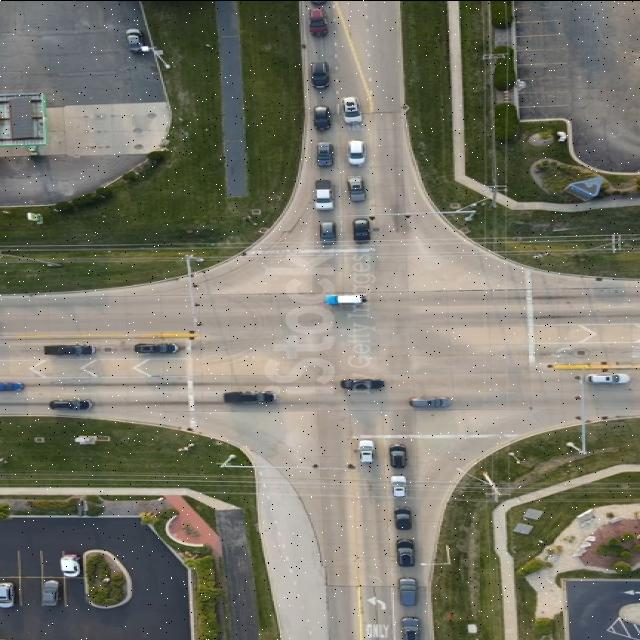car: (46, 344, 98, 356), (225, 390, 277, 402), (398, 578, 418, 606), (312, 61, 332, 88), (344, 96, 364, 122), (341, 378, 384, 390), (127, 28, 148, 52), (410, 391, 452, 403), (404, 615, 424, 640), (60, 552, 81, 575), (353, 216, 373, 240), (52, 398, 94, 409), (393, 506, 412, 530), (135, 343, 180, 353), (348, 139, 366, 163), (316, 140, 334, 164), (409, 396, 452, 406), (590, 374, 632, 384), (349, 176, 367, 199), (314, 105, 332, 128), (320, 220, 338, 242), (390, 445, 408, 467), (358, 440, 376, 462), (0, 582, 15, 607), (391, 476, 407, 496), (0, 380, 24, 390)
pickup-truck: (40, 576, 60, 604), (324, 290, 368, 302)
